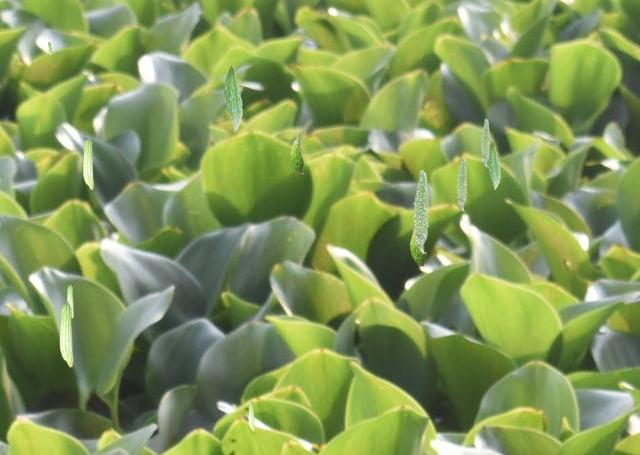ampalaya: (412, 169, 429, 253), (223, 64, 243, 132), (59, 301, 73, 367), (487, 140, 501, 190), (409, 228, 426, 267), (82, 136, 94, 190), (289, 132, 304, 174), (456, 155, 467, 211), (480, 118, 490, 167), (66, 283, 74, 318), (248, 400, 255, 432), (47, 42, 52, 55)
